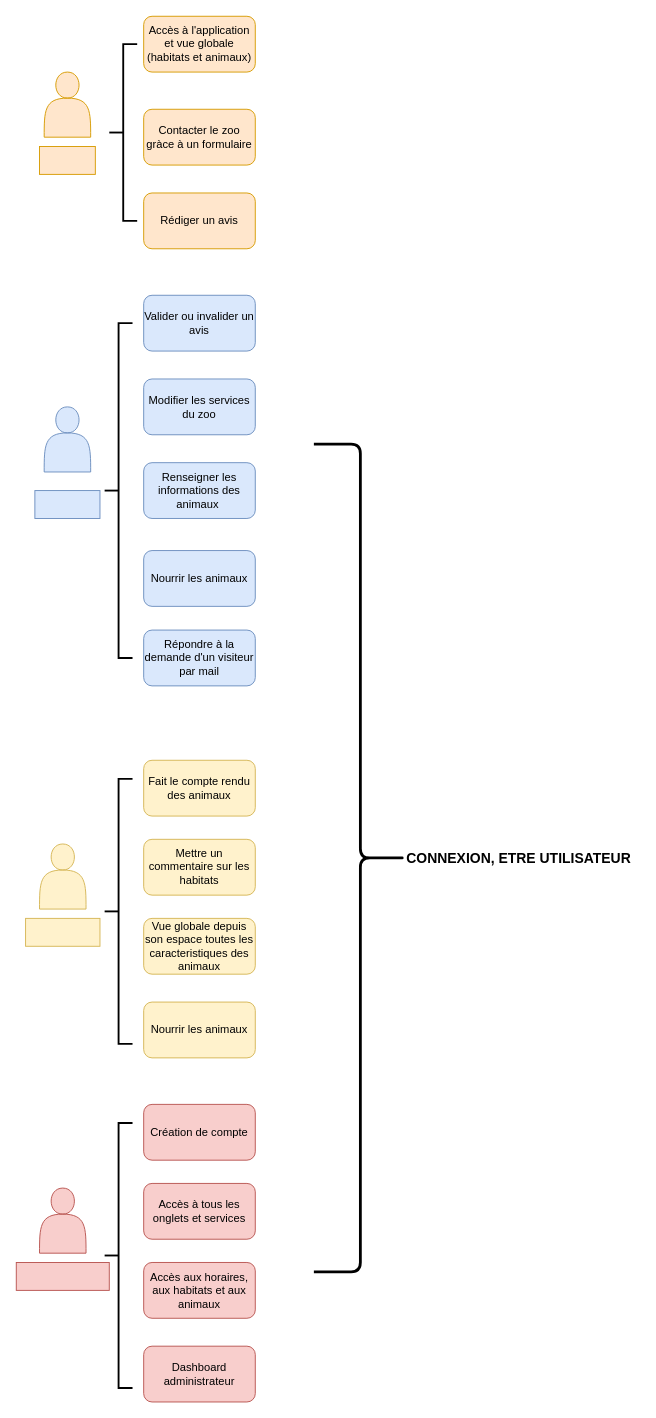
Some shapes in this 656 by 1418 pixel diagram are drawn without their labels. The shapes that lost their labels are listed below. From the top down, each one's box as (x1, y1, x2, y2) in pixels, then its label:
(39, 146, 95, 174): Visiteur
(34, 490, 100, 518): Employé
(25, 917, 100, 946): Vétérinaire
(15, 1262, 109, 1290): Administrateur
